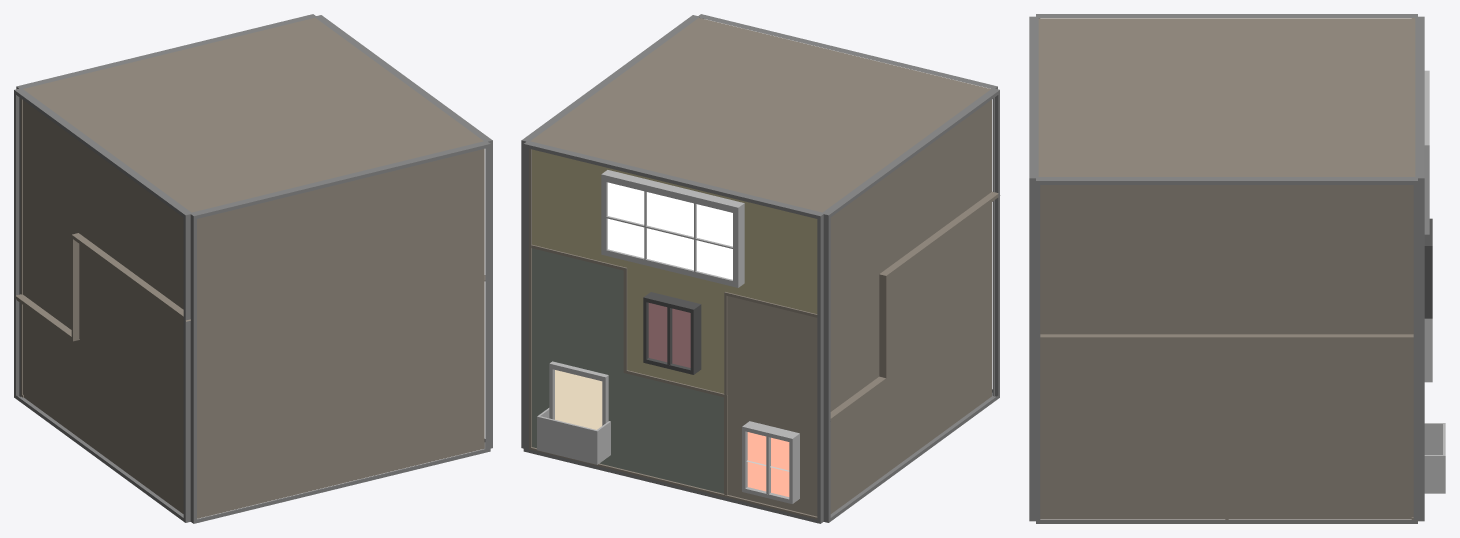
3 renders of one model, left to right at view 1: azimuth 30°, elevation 25°; view 2: azimuth 150°, elevation 25°; view 3: azimuth 270°, elevation 25°, orthographic. The views are drawn at different scales.
Parts seen in each view (by area): view 1: Cube, Cube.008, Cube.010, Cube.013, Cube.016, Cube.009, Cube.011; view 2: Cube, Cube.003, Cube.008, Cube.009, Cube.006, Cube.002, Cube.001, Cube.013, Cube.016, Cube.011, Cube.007, Cube.010; view 3: Cube, Cube.013, Cube.010, Cube.009, Cube.015, Cube.006, Cube.008, Cube.003, Cube.002, Cube.011, Cube.014, Cube.001.
Boxes of the visible parts, x1,y1,x2,y2 form: Cube: (23, 19, 484, 518); Cube.008: (14, 88, 192, 522); Cube.010: (190, 141, 490, 523); Cube.013: (316, 15, 492, 449); Cube.016: (16, 233, 190, 341); Cube.009: (16, 14, 316, 397); Cube.011: (20, 17, 316, 397); Cube: (531, 18, 991, 516); Cube.003: (601, 170, 744, 287); Cube.008: (822, 88, 999, 522); Cube.009: (523, 141, 823, 523); Cube.006: (537, 361, 610, 464); Cube.002: (643, 292, 701, 374); Cube.001: (742, 421, 799, 503); Cube.013: (521, 15, 699, 449); Cube.016: (830, 191, 1000, 421); Cube.011: (529, 140, 823, 519); Cube.007: (531, 244, 817, 397); Cube.010: (697, 14, 997, 397); Cube: (1038, 18, 1413, 519); Cube.013: (1036, 177, 1417, 523); Cube.010: (1029, 16, 1038, 521); Cube.009: (1415, 16, 1424, 521); Cube.015: (1040, 334, 1413, 340); Cube.006: (1424, 423, 1445, 493); Cube.008: (1036, 14, 1417, 18); Cube.003: (1424, 70, 1429, 234); Cube.002: (1424, 218, 1432, 318); Cube.011: (1411, 18, 1415, 519); Cube.014: (1225, 337, 1228, 519); Cube.001: (1424, 318, 1432, 382).
Size of the model in its own units: 2.1 by 2 by 2.21.
